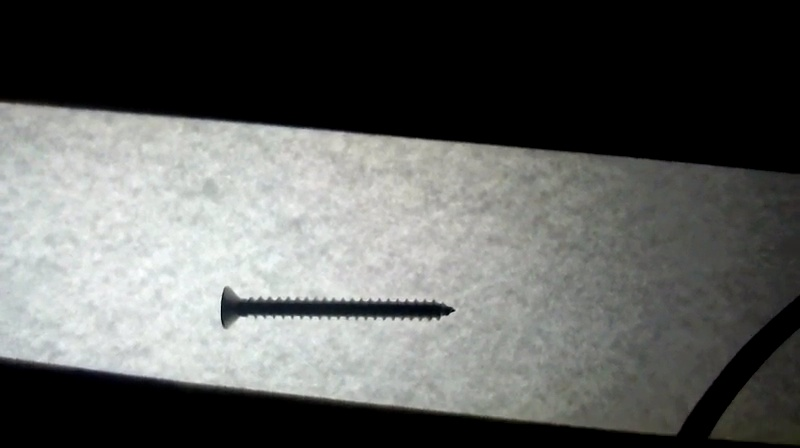S002: (216, 282, 458, 333)
